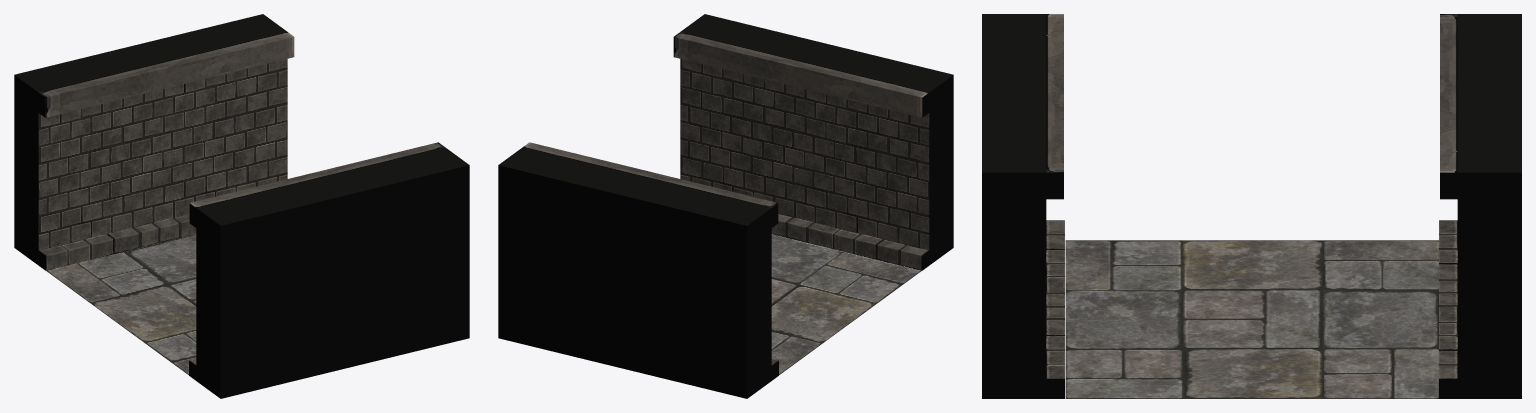
File: ModularCorridor02_Tris.fbx
3 views of the same model, side by side, from view 1: azimuth 30°, elevation 25°; view 2: azimuth 150°, elevation 25°; view 3: azimuth 270°, elevation 25° (orthographic). The views are drawn at different scales.
Parts seen in each view (by area): view 1: Plane, Plane.001; view 2: Plane, Plane.001; view 3: Plane, Plane.001.
Boxes of the visible parts, box(x1,y1,x2,y2) form: Plane: box(14, 14, 469, 398); Plane.001: box(46, 234, 196, 374); Plane: box(498, 14, 953, 398); Plane.001: box(771, 234, 921, 374); Plane: box(982, 14, 1521, 398); Plane.001: box(1065, 240, 1438, 398).
Size of the model in its own units: 3.01 by 2 by 4.32.
2 materials, 2 textured.
